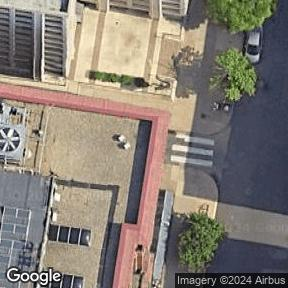vegetation: (203, 43, 263, 107), (169, 209, 228, 274), (207, 0, 277, 33), (89, 70, 132, 86)
